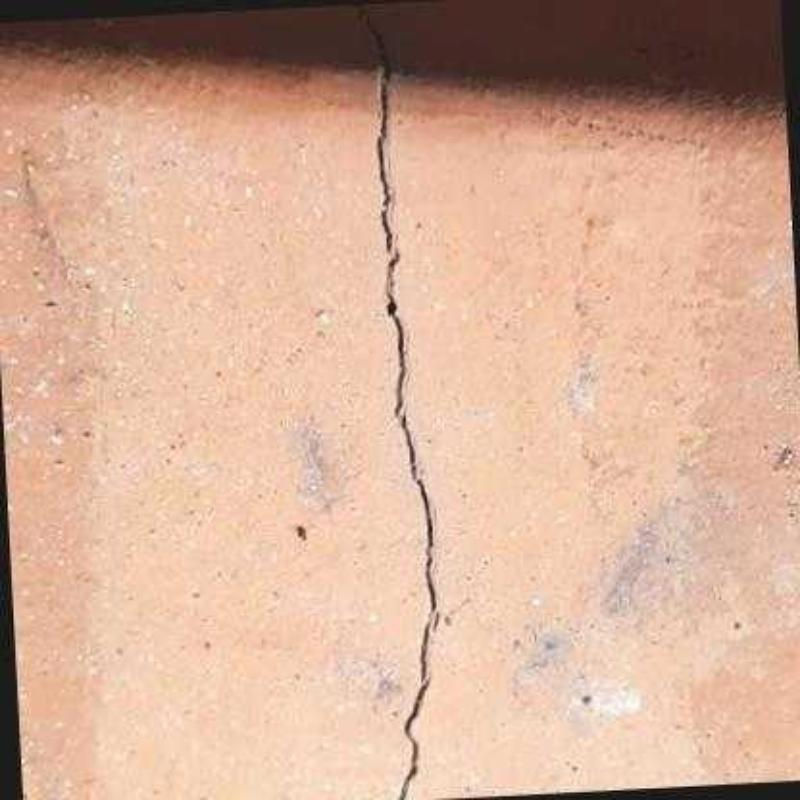pothole: (349, 1, 438, 798)
